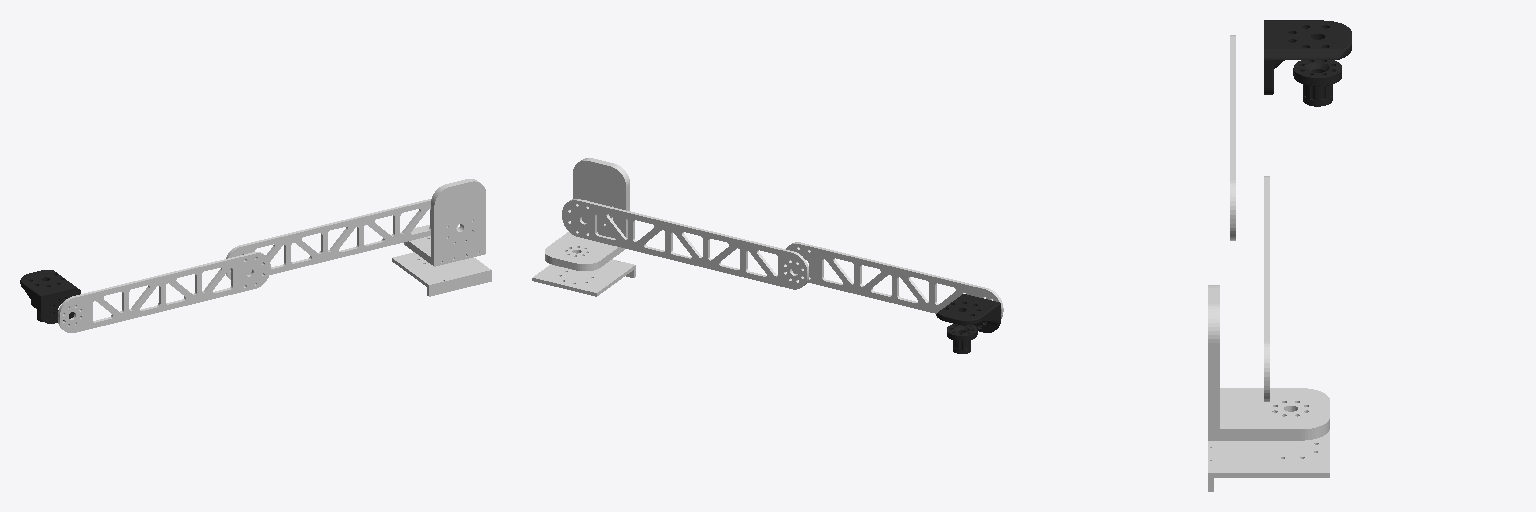
The robot description file, URDF, robot "pokerBot":
<?xml version="1.0"?>

<robot name="pokerBot">

    <link name="world"/>

    <joint name="placement" type="fixed"> <!-- Placement of base w.r.t world -->
        <parent link="world"/>
        <child link="baseplate"/>
        <origin xyz="0 0 0" rpy="0 0 0"/>
    </joint>

    <link name="baseplate">
        <visual>
            <origin xyz="0 0.0625 0" rpy="1.5708 0 -1.5708"/> <!-- Placement of baseplate VISUAL -->
                <geometry>
                    <mesh filename="package://pb_utils/meshes/base_Ass.STL"
                                scale="0.001 0.001 0.001"/>
                </geometry>
                <material name="metal"/>
        </visual>
    </link>

    <joint name="baseplate" type="fixed">
        <parent link="baseplate"/>
        <child link="basemotor"/>
        <origin xyz="0 0.085 0.0067" rpy="0 0 0"/> <!-- Baseplate connection to basemotor frame -->
    </joint>

    <!-- BASE MOTOR: Thickness: X5 = 31.1mm, X8 = 45.1mm -->
    <link name="basemotor">
        <visual>
            <origin xyz="0 0 0" rpy="0 0 1.5708"/>
            <geometry>
                <mesh filename="package://pb_utils/meshes/X5.stl"
	      scale="0.001 0.001 0.001"/>
            </geometry>
            <material name="hebi"/>
        </visual>
    </link>

    <joint name="base" type="continuous"> <!-- Revolute pan angle joint -->
        <parent link="basemotor"/>
        <child link="lbracket"/>
        <origin xyz="0 0 0.0311" rpy="0 0 0"/>
        <axis xyz="0 0 1"/>
    </joint>

    <link name="lbracket">
        <visual>
        <origin xyz="0 0 0" rpy="1.5708 0 0"/>
            <geometry>
                <mesh  filename="package://pb_utils/meshes/lb_ass.STL"
                scale="0.001 0.001 0.001"/>
            </geometry>
            <material name="metal"/>
        </visual>
    </link>

    <joint name="lbracket" type="fixed">
        <parent link="lbracket"/>
        <child link="shouldermotor"/>
        <origin xyz="0 -0.0725 0.060" rpy="0 -1.5708 0"/> <!-- L BRACKET DIMENIONS -->
    </joint>

    <!-- SHOULDER MOTOR: Thickness: X5 = 31.1mm, X8 = 45.1mm -->
    <link name="shouldermotor">
        <visual>
            <origin xyz="0 0 0" rpy = "-1.5708 3.1412 0"/>
            <geometry>
                <mesh filename="package://pb_utils/meshes/X8.stl"
	      scale="0.001 0.001 0.001"/>
            </geometry>
            <material name="hebi"/>
        </visual>
    </link>

    <joint name="shoulder" type="continuous">
        <parent link="shouldermotor"/>
        <child link="upperarm"/>
        <origin xyz="0 0.0451 0" rpy="0 0 0"/> <!-- Revolute shoulder joint location -->
        <axis xyz="0 1 0"/>
    </joint>

    <link name="upperarm">
        <visual>
            <origin xyz="0.03255 0 -0.04" rpy = "0 -1.5708 0"/>
            <geometry>
                <mesh filename="package://pb_utils/meshes/18in_Arm_V2.STL"
                            scale="0.001 0.001 0.001"/>
            </geometry>
            <material name="metal"/>
        </visual>
    </link>

    <joint name="upperarm" type="fixed">
        <parent link="upperarm"/>
        <child link="elbowmotor"/>
        <origin xyz="0 0 0.3922" rpy="0 0 0"/> <!-- upperarm dimension -->
    </joint>

    <!-- Elbow motor.  Thickness: X5 = 31.1mm, X8 = 45.1mm -->
    <link name="elbowmotor">
        <visual>
            <origin xyz="0 0 0" rpy = "1.5708 -1.5708 0"/>
            <geometry>
                <mesh filename="package://pb_utils/meshes/X5.stl"
	      scale="0.001 0.001 0.001"/>
            </geometry>
            <material name="hebi"/>
        </visual>
    </link>

    <joint name="elbow" type="continuous">
        <parent link="elbowmotor"/>
        <child  link="lowerarm"/>
        <origin xyz="0 -0.035 0" rpy="0 0 0"/>
        <axis   xyz="0 -1 0"/>
    </joint>

    <!-- Shift across the upper arm (1/4in thickness) -->
    <link name="lowerarm">
        <visual>
            <origin xyz="0.03255 0 -0.04" rpy = "0 -1.5708 0"/>
            <geometry>
                <mesh filename="package://pb_utils/meshes/16in_Arm_V2.STL"
                            scale="0.001 0.001 0.001"/>
            </geometry>
            <material name="metal"/>
        </visual>
    </link>

    <joint name="lowerarm" type="fixed">
        <parent link="lowerarm"/>
        <child  link="wristmotor"/>
        <origin xyz="0 0 0.3411" rpy="0 0 0"/>		  <!-- LOWER ARM DIMENIONS -->
    </joint>

    <!-- Tip motor.  Thickness: X5 = 31.1mm, X8 = 45.1mm -->
    <link name="wristmotor">
        <visual>
            <origin xyz="0 0.0067 0" rpy = "-1.5708 -1.5708 0"/>
            <geometry>
                <mesh filename="package://pb_utils/meshes/X5.stl"
	      scale="0.001 0.001 0.001"/>
            </geometry>
            <material name="hebi"/>
        </visual>
    </link>

    <joint name="tip" type="continuous">
        <parent link="wristmotor"/>
        <child link="wristbracket"/>
        <origin xyz="0 0.035 0" rpy="0 -1.5708 0"/>
        <axis xyz="0 1 0"/>
    </joint>

    <link name="wristbracket">
        <visual>
            <origin xyz="0 0 0" rpy="0 0 0"/>
            <geometry>
                <mesh filename="package://pb_utils/meshes/End_Bracket_V2.STL"
                            scale="0.001 0.001 0.001"/>
            </geometry>
            <material name="plastic"/>
        </visual>
    </link>

    <joint name="wristbracketout" type="fixed">
        <parent link="wristbracket"/>
        <child link="tipmotor"/>
        <origin xyz="0 0.055 -0.021" rpy="0 0 0"/>
    </joint>

    <link name="tipmotor">
        <visual>
            <origin xyz="0 0 0" rpy = "0 0 -1.5708"/>
            <geometry>
                <mesh filename="package://pb_utils/meshes/X5.stl"
	      scale="0.001 0.001 0.001"/>
            </geometry>
            <material name="hebi"/>
        </visual>
    </link>

    <joint name="tipturn" type="continuous">
        <parent link="tipmotor"/>
        <child link="cup"/>
        <origin xyz="0 0 0.0311" rpy="0 0 0"/>
        <axis xyz="0 0 1"/>
    </joint>

    <link name="cup">
        <visual>
            <origin xyz="0 0 0.0039" rpy="-1.5708 0 0"/>
                <geometry>
                    <mesh filename="package://pb_utils/meshes/Vacuum_Cup_Holder_V2.STL"
                                scale="0.001 0.001 0.001"/>
                </geometry>
            <material name="plastic"/>
        </visual>
    </link>

    <joint name="shifttoend" type="fixed">
      <parent link="cup"/>
      <child link="end"/>
      <origin xyz="0 0 0.037858" rpy="0 0 0"/>
    </joint>

    <link name="end"/>

    <!-- VISUAL LINK ELEMENTS -->

    <material name="metal"> <color rgba=".89 .89 .89 1"/> </material>
    <material name="hebi">  <color rgba="0.82 0.06 0.06 1"/>  </material>
    <material name="plastic"> <color rgba="0.2 0.2 0.2 1"/> </material>

</robot>

--- What the picture shows (computed from the rendered views, not written in the file) ---
The picture shows the robot from 3 angles, left to right: view 1: azimuth 30°, elevation 25°; view 2: azimuth 150°, elevation 25°; view 3: azimuth 270°, elevation 25°; orthographic projection.
Robot: pokerBot — 13 links, 12 joints (5 continuous, 7 fixed); root link world; default pose: every joint at zero.
Links seen in each view (by area): view 1: lowerarm, lbracket, upperarm, baseplate, wristbracket; view 2: upperarm, lbracket, lowerarm, baseplate, wristbracket, cup; view 3: lbracket, baseplate, wristbracket, cup, upperarm, lowerarm.
Boxes of the visible links, x1,y1,x2,y2 form: lowerarm: (58, 252, 270, 332); lbracket: (404, 179, 485, 266); upperarm: (226, 199, 430, 279); baseplate: (392, 252, 491, 296); wristbracket: (20, 270, 80, 323); upperarm: (562, 199, 808, 289); lbracket: (545, 158, 629, 270); lowerarm: (786, 242, 1003, 318); baseplate: (532, 259, 635, 296); wristbracket: (936, 294, 1000, 332); cup: (947, 324, 977, 353); lbracket: (1208, 285, 1329, 440); baseplate: (1208, 430, 1329, 491); wristbracket: (1264, 20, 1351, 94); cup: (1293, 60, 1341, 106); upperarm: (1264, 176, 1269, 401); lowerarm: (1230, 35, 1235, 240).
Size in the robot's own frame: 0.8343 by 0.1476 by 0.1928 metres.
Meshes: 8 distinct files referenced, 6 mesh visuals loaded (6 binary STL); not drawn: 5 (reference not matched to a file when rendering).
